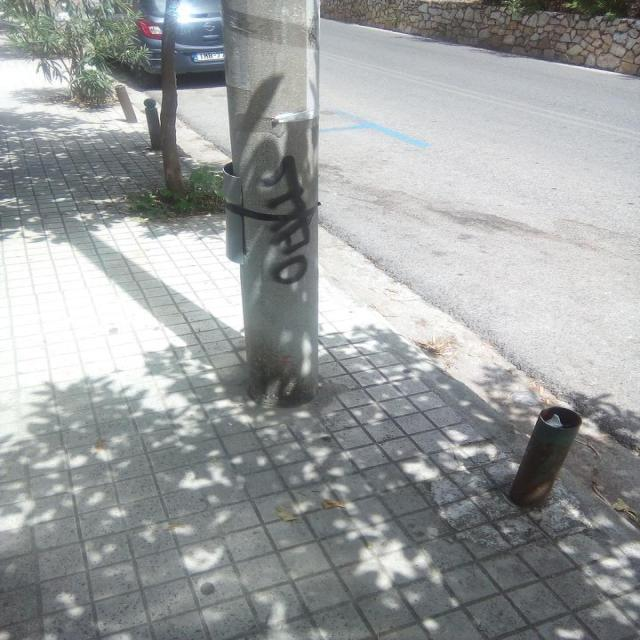nonspitting: (264, 154, 310, 286)
